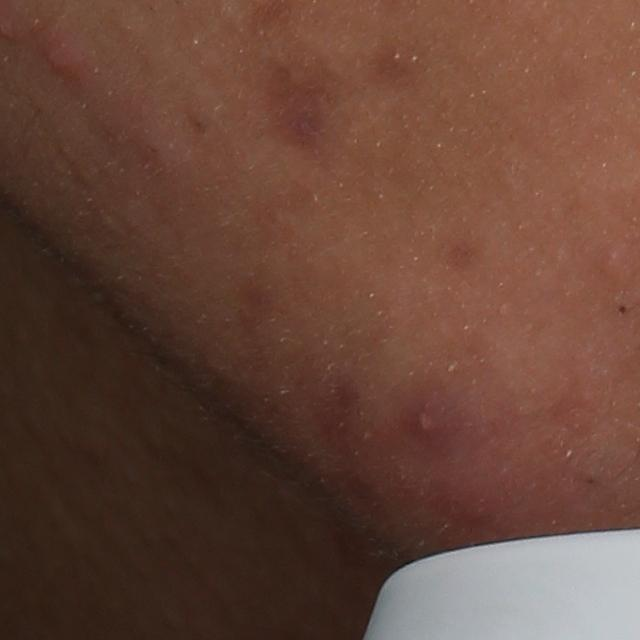comedo: (592, 248, 625, 272), (614, 297, 629, 322)
papule: (42, 20, 85, 80)
pustule: (408, 397, 445, 444)
